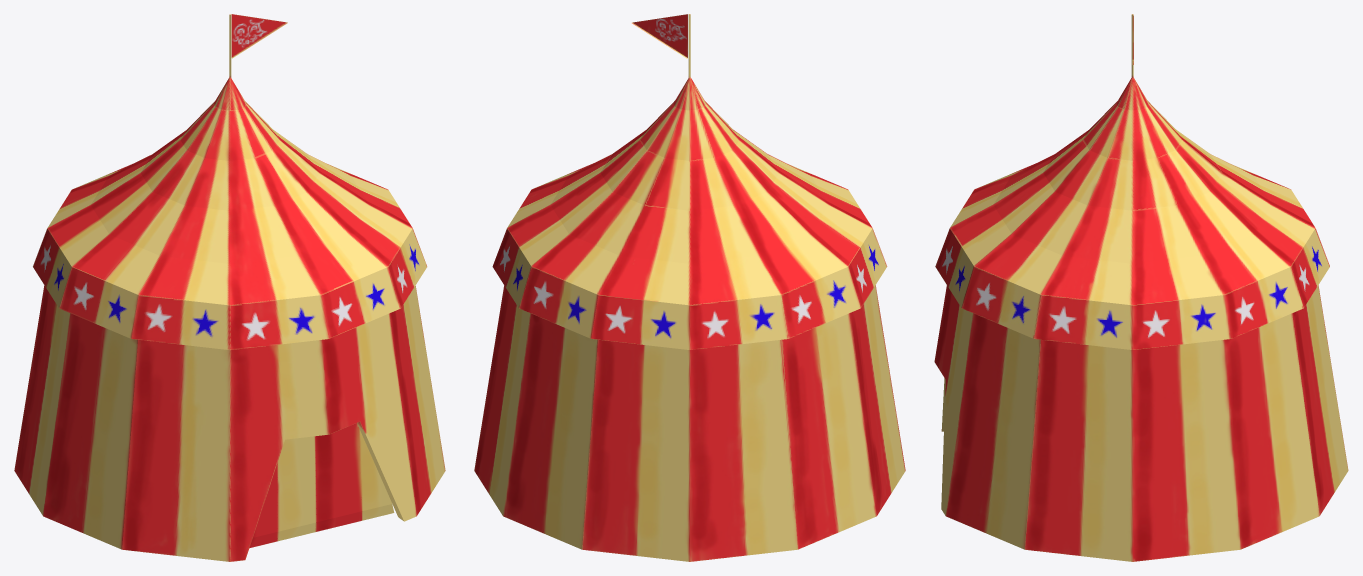
The model's file is lionshed.glb.
The picture shows the model from 3 angles, left to right: view 1: azimuth 30°, elevation 25°; view 2: azimuth 150°, elevation 25°; view 3: azimuth 270°, elevation 25°; orthographic projection.
Parts seen in each view (by area): view 1: down.001, Cube; view 2: down.001; view 3: down.001.
Part boxes in pixels (<box>): down.001: <box>14,14,445,561</box>; Cube: <box>249,423,394,548</box>; down.001: <box>474,14,905,561</box>; down.001: <box>934,14,1348,561</box>.
Bounding box in the file's own units: 4.58 × 5.34 × 4.39.
Materials: 2 (2 with a texture image).
